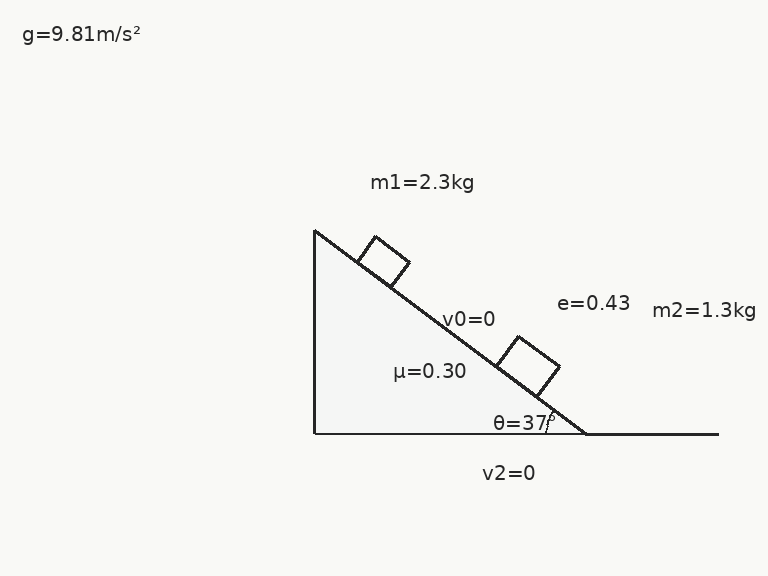block: (494, 334, 561, 399), (355, 235, 410, 288)
ramp: (312, 227, 588, 436)
